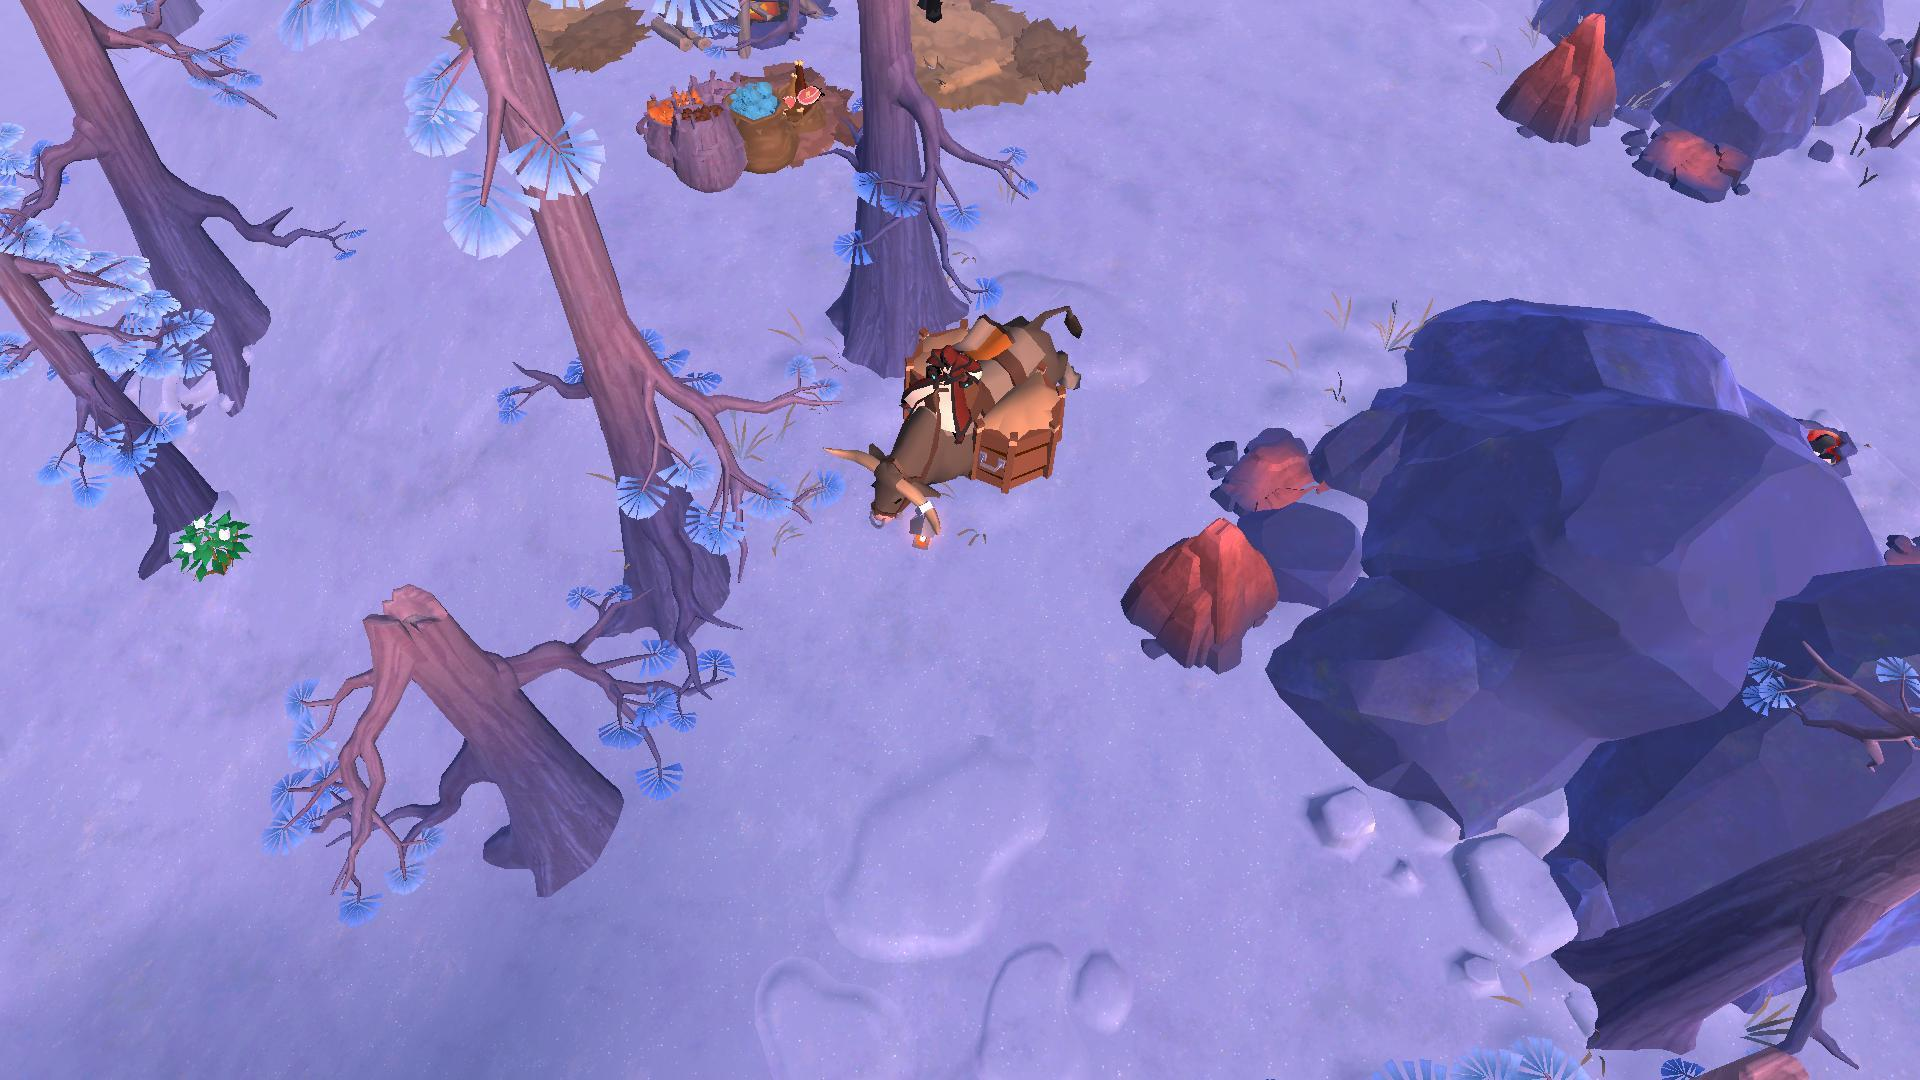fiber_t3: (169, 508, 256, 579)
rock_t5: (1121, 513, 1284, 673), (1497, 16, 1621, 149)
